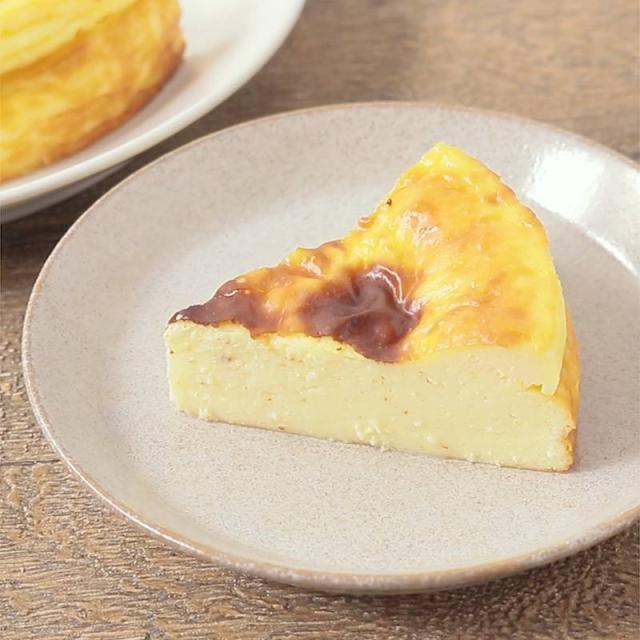cheesecake: (162, 141, 581, 472)
